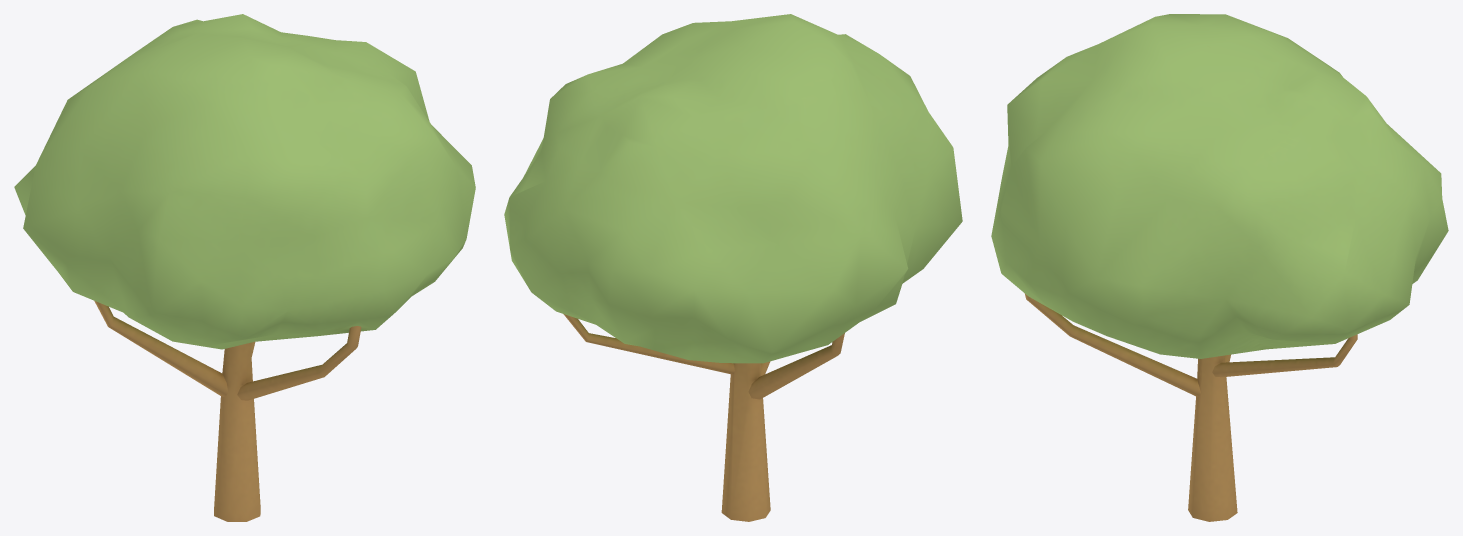
3 renders of one model, left to right at view 1: azimuth 30°, elevation 25°; view 2: azimuth 150°, elevation 25°; view 3: azimuth 270°, elevation 25°, orthographic. The views are drawn at different scales.
Parts seen in each view (by area): view 1: Big tree.001; view 2: Big tree.001; view 3: Big tree.001.
Part boxes in pixels (left/top/right/bottom): Big tree.001: left=14, top=14, right=475, bottom=521; Big tree.001: left=504, top=14, right=962, bottom=521; Big tree.001: left=991, top=14, right=1448, bottom=521.
Bounding box in the file's own units: 18.09 × 21.44 × 18.6.
Materials: 1 (1 with a texture image).
